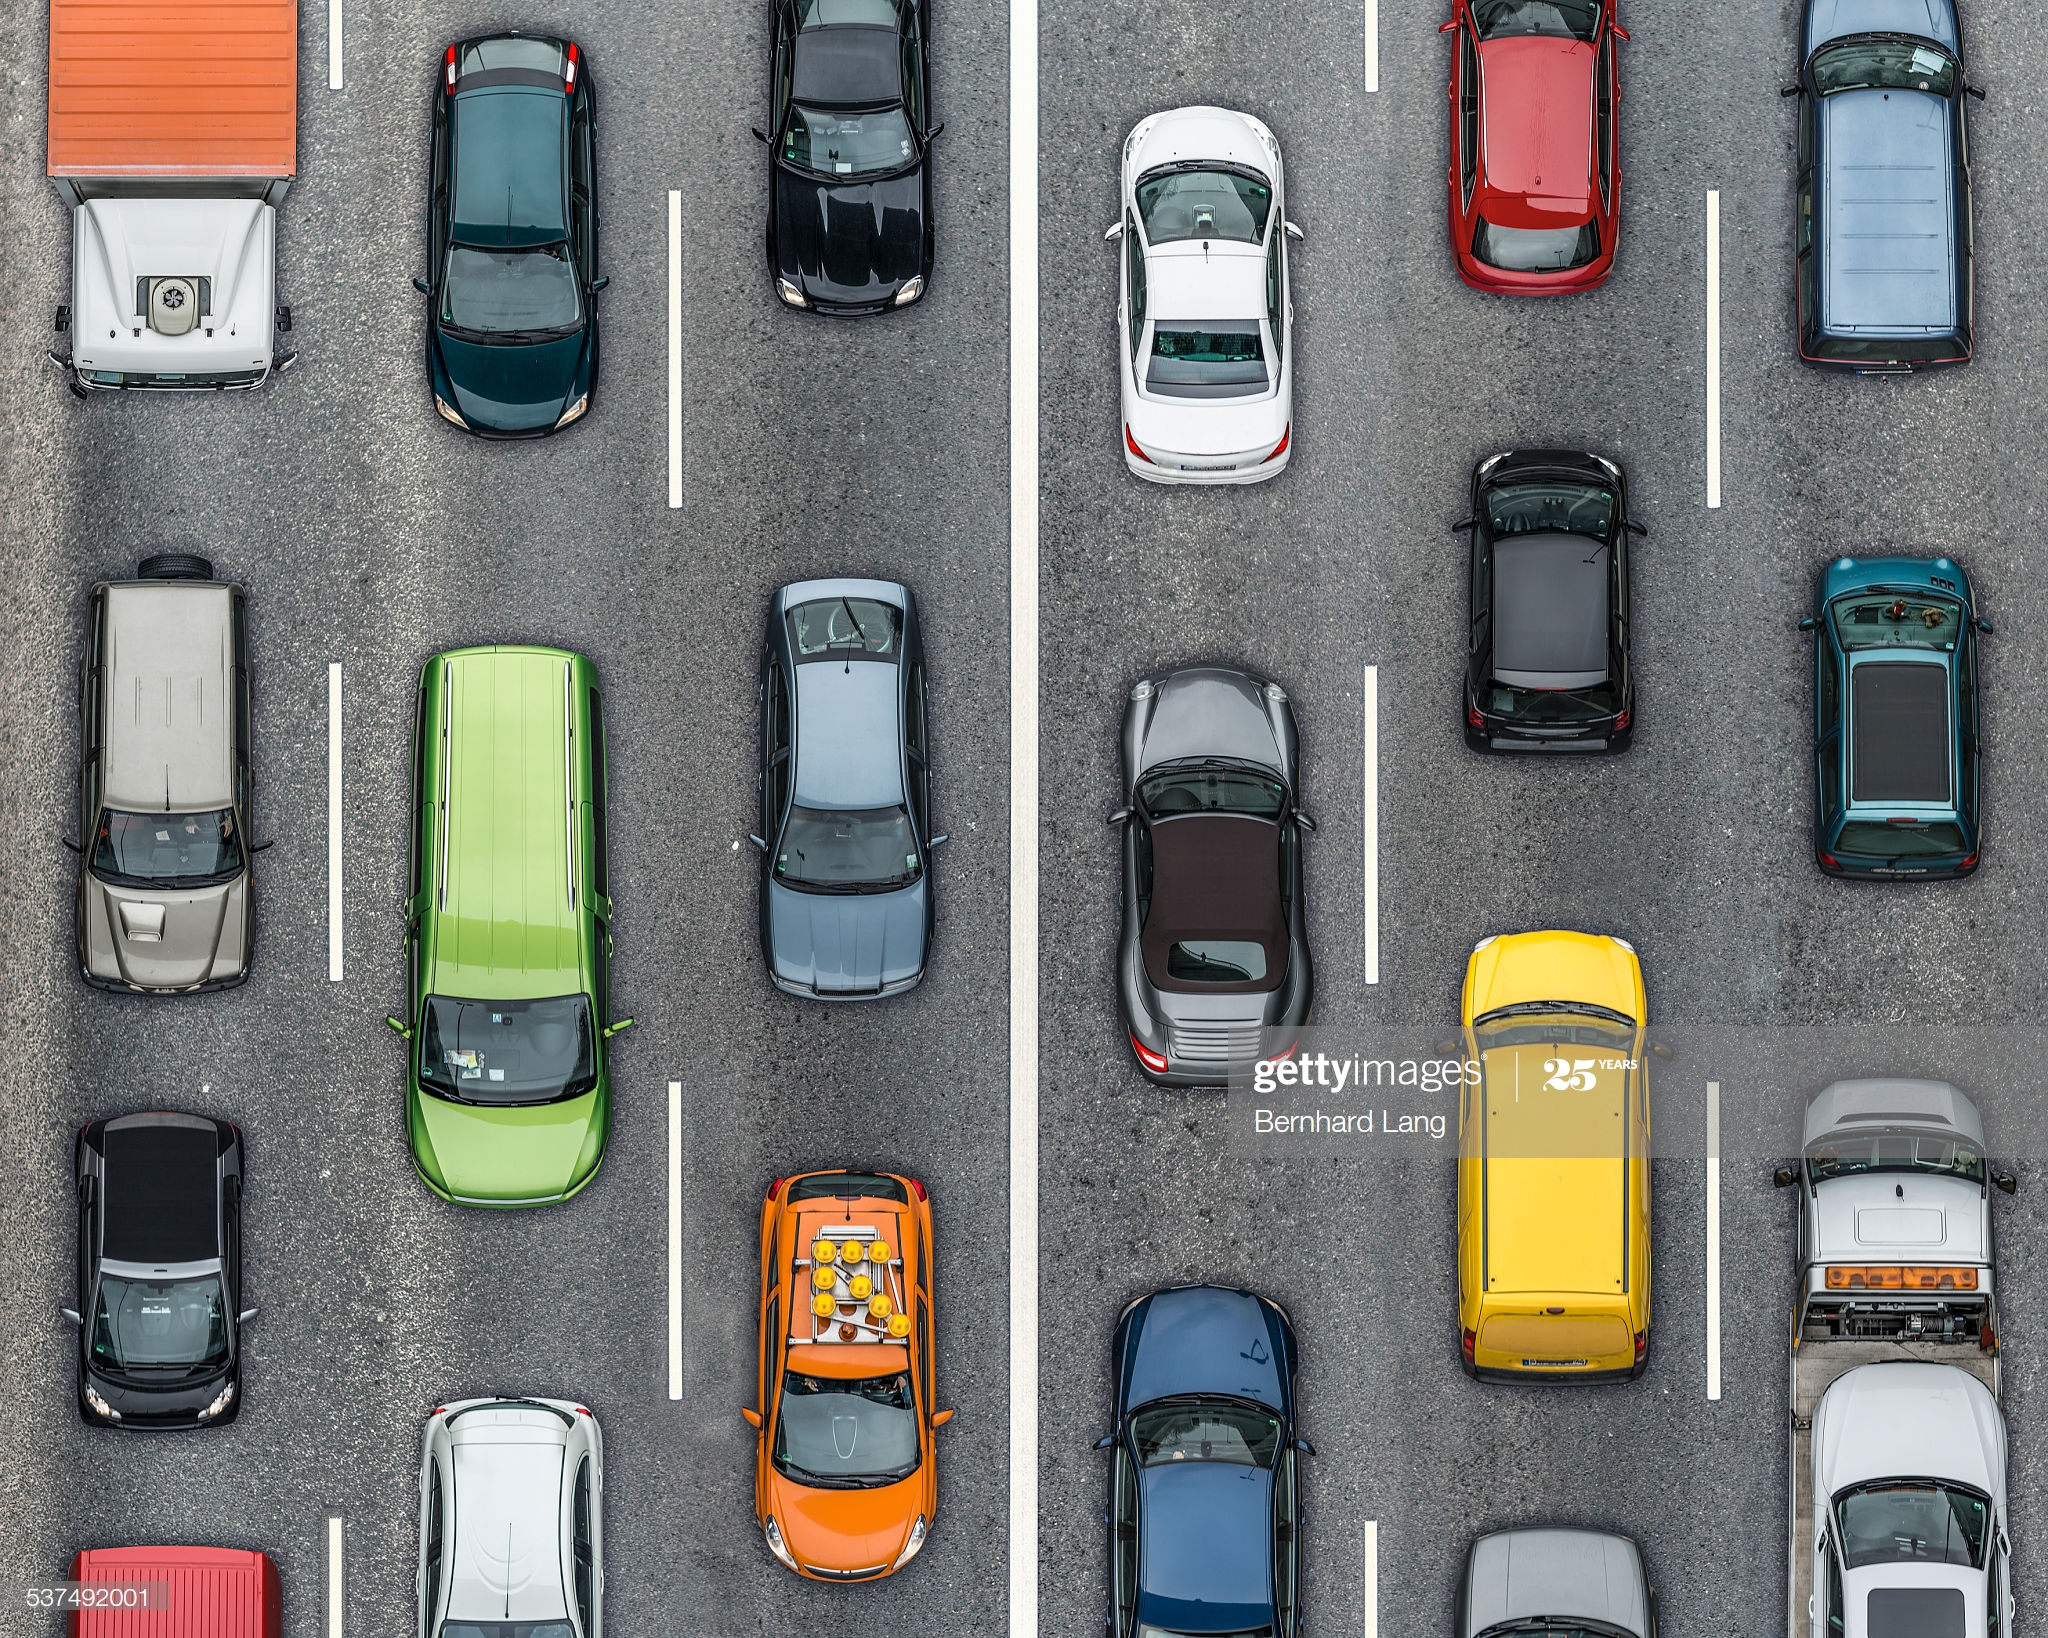Car: (386, 622, 620, 1222), (1802, 1075, 2021, 1638), (33, 2, 314, 408), (1436, 909, 1658, 1387), (1108, 652, 1309, 1098), (742, 1158, 948, 1591), (751, 567, 945, 1010), (77, 538, 257, 1013), (1108, 95, 1314, 498), (416, 20, 610, 446), (1782, 2, 1979, 386), (1103, 1280, 1311, 1638), (1811, 535, 1993, 904), (1453, 435, 1655, 766), (82, 1100, 262, 1447), (751, 2, 945, 324), (1436, 2, 1637, 313)
LaneMark: (1005, 2, 1038, 1638), (323, 657, 344, 983), (1705, 1075, 1725, 1411), (662, 182, 682, 508), (665, 1078, 684, 1406), (1704, 182, 1720, 510), (1363, 660, 1379, 983), (321, 1509, 344, 1638)
